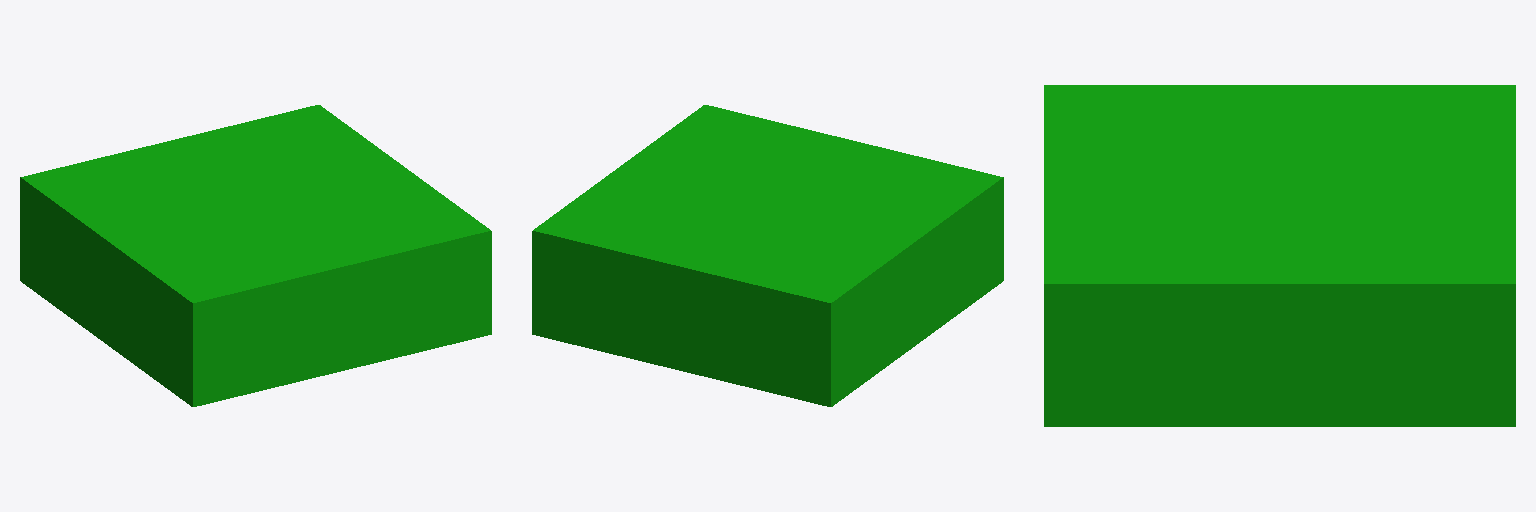
URDF robot description (block_2):
<?xml version="1.0"?>
<robot name="block_2">
  <link name="block_2_base_link">
    <contact>
      <lateral_friction value="0.5"/>
      <spinning_friction value=".001"/>
    </contact>
    <inertial>
      <origin rpy="0 0 0" xyz="0 0 0"/>
      <mass value="2.0"/>
      <inertia ixx="1" ixy="0" ixz="0" iyy="1" iyz="0" izz="1"/>
    </inertial>
    <visual>
      <origin rpy="0 0 0" xyz="0.0 0.0 0.0"/>
      <geometry>
        <box size="0.15 0.15 0.05"/>
      </geometry>
      <material name="blockmat">
        <color rgba="0.1 0.7 0.1 1"/>
      </material>
    </visual>
    <collision>
      <origin rpy="0 0 0" xyz="0.0 0.0 0.0"/>
      <geometry>
        <box size="0.15 0.15 0.05"/>
      </geometry>
    </collision>
  </link>
</robot>

--- Facts derived from the render (not from the file) ---
3 views of the same robot in one strip: view 1: azimuth 30°, elevation 25°; view 2: azimuth 150°, elevation 25°; view 3: azimuth 270°, elevation 25° (orthographic).
Model block_2 with 1 links and 0 joints (none), rooted at block_2_base_link, posed all joints at 0.
Visible links, largest first — view 1: block_2_base_link; view 2: block_2_base_link; view 3: block_2_base_link.
Boxes of the visible links, bbox=[...] form: block_2_base_link: bbox=[20, 105, 491, 406]; block_2_base_link: bbox=[532, 105, 1003, 406]; block_2_base_link: bbox=[1044, 85, 1515, 426].
Size in the robot's own frame: 0.15 by 0.15 by 0.05 metres.
Geometry: primitives only (box / cylinder / sphere), no mesh files.